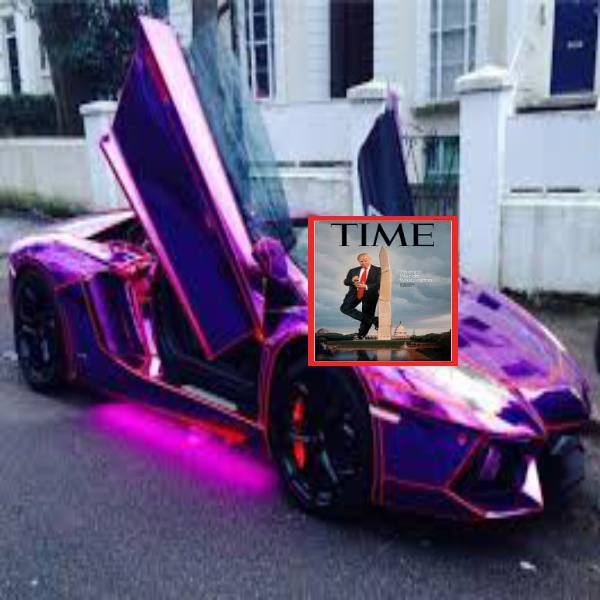time_cover: (299, 193, 468, 368)
